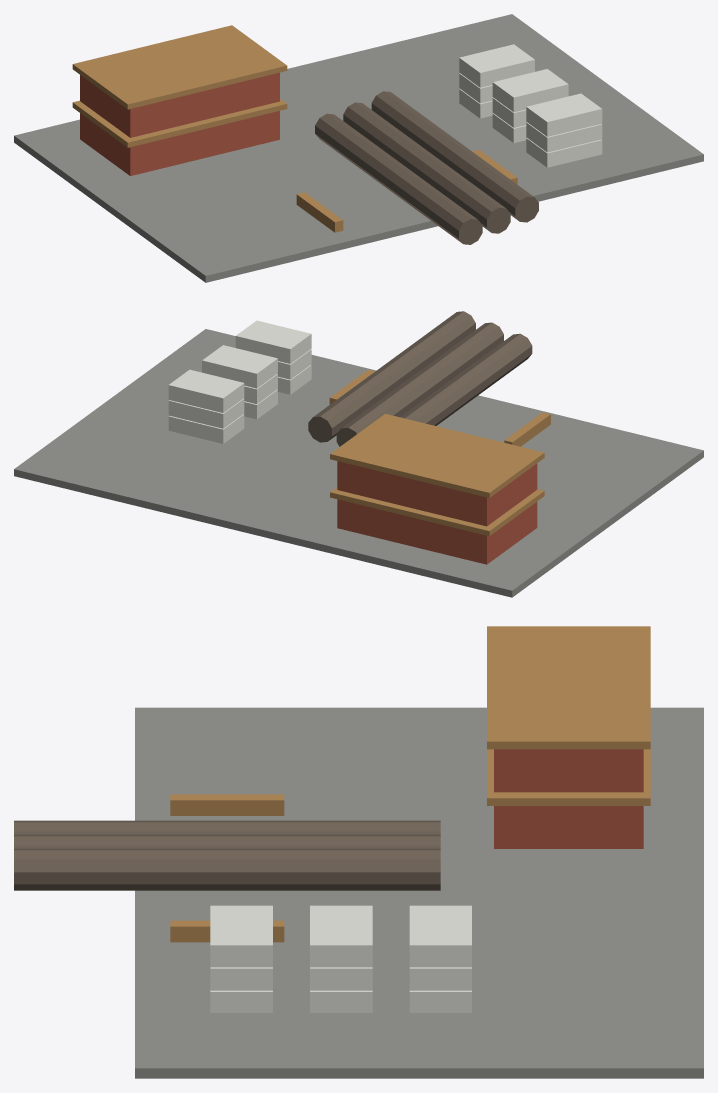
The model's file is pit_materials.glb.
3 views of the same model, one above another, from view 1: azimuth 30°, elevation 25°; view 2: azimuth 150°, elevation 25°; view 3: azimuth 270°, elevation 25° (orthographic). The views are drawn at different scales.
Parts seen in each view (by area): view 1: PitMaterials; view 2: PitMaterials; view 3: PitMaterials.
Boxes of the visible parts, bbox=[...] form: PitMaterials: bbox=[14, 14, 703, 282]; PitMaterials: bbox=[14, 311, 703, 597]; PitMaterials: bbox=[14, 626, 703, 1078].
Size of the model in its own units: 6 by 0.94 by 4.85.
